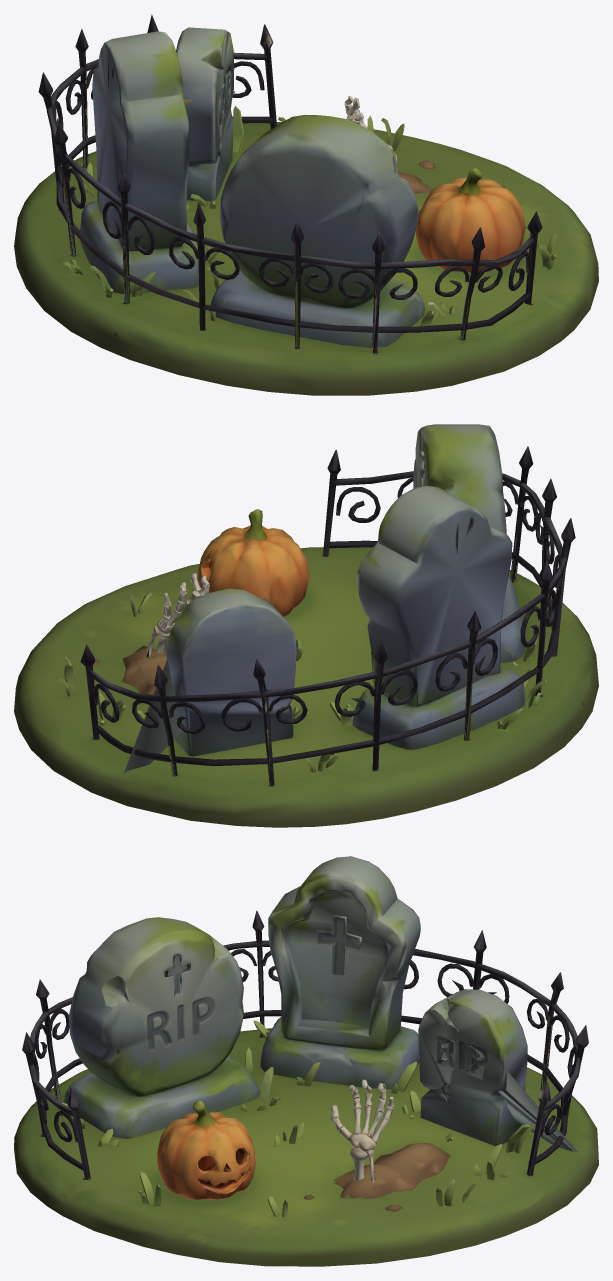
File: H3_GraveyardSet_LOD1.fbx
3 views of the same model, one above another, from view 1: azimuth 30°, elevation 25°; view 2: azimuth 150°, elevation 25°; view 3: azimuth 270°, elevation 25° (orthographic). The views are drawn at different scales.
Visible parts, largest first — view 1: H3_GraveyardSet_LOD1; view 2: H3_GraveyardSet_LOD1; view 3: H3_GraveyardSet_LOD1.
Boxes of the visible parts, <box> form: H3_GraveyardSet_LOD1: <box>14,14,598,395</box>; H3_GraveyardSet_LOD1: <box>14,424,598,827</box>; H3_GraveyardSet_LOD1: <box>14,856,598,1266</box>.
Size of the model in its own units: 2.28 by 1.1 by 2.56.
1 material, 1 textured.
